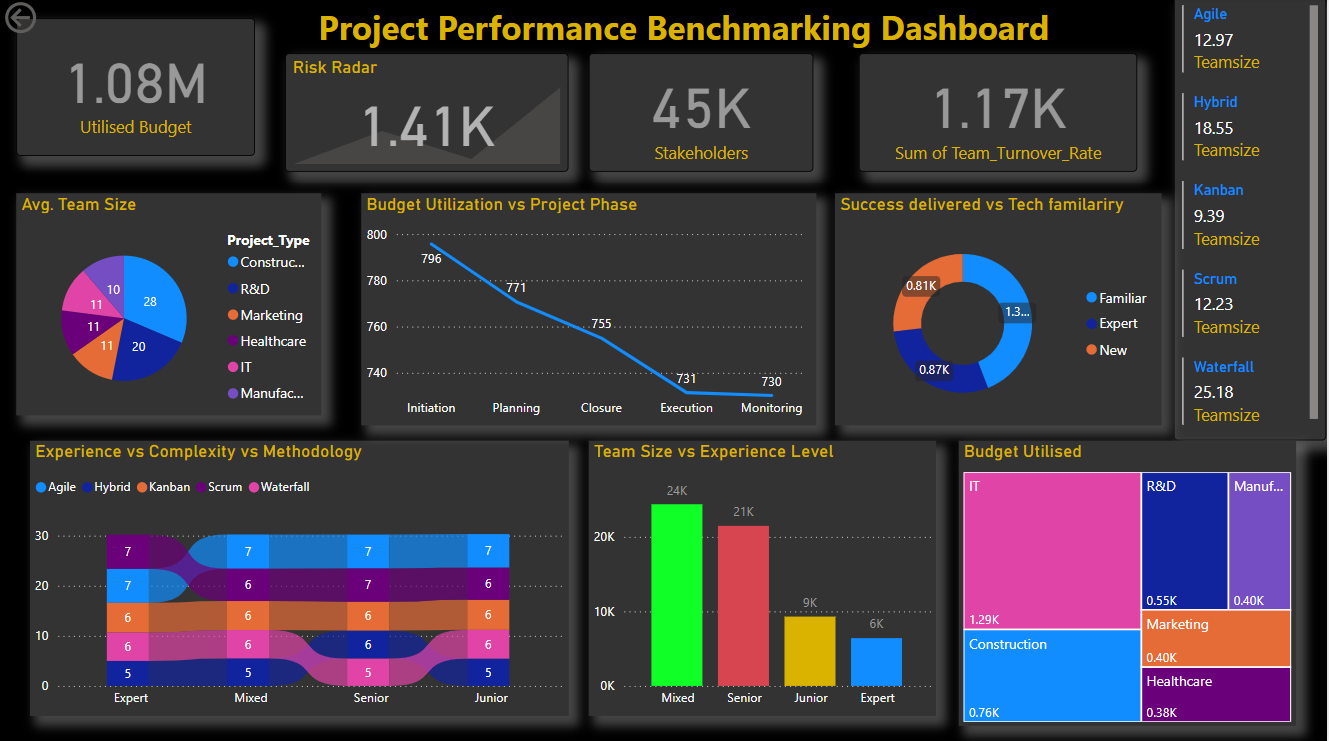

This screenshot's page, from the dashboard's own definition file:
{"tool":"powerbi","page":{"name":"Project Performance Benchmarking","canvas":[1280,720],"ordinal":2},"visuals":[{"type":"shape","box":[289.5,0,740.8,95.3],"z":0},{"type":"card","fields":{"Values":["Avg(project_risk_raw_dataset.xyz)"]},"box":[15.7,20.5,230.4,132.7],"z":1000},{"type":"multiRowCard","fields":{"Values":["project_risk_raw_dataset.Methodology_Used","Avg(project_risk_raw_dataset.Team_Size)"]},"box":[1132.8,0,147.2,428.3],"z":2000},{"type":"pieChart","title":"Avg. Team Size","fields":{"Y":["Avg(project_risk_raw_dataset.Team_Size)"],"Category":["project_risk_raw_dataset.Project_Type"]},"box":[15.7,189.4,294.4,214.7],"z":3000},{"type":"ribbonChart","title":"Experience vs Complexity vs Methodology","fields":{"Category":["project_risk_raw_dataset.Team_Experience_Level"],"Series":["project_risk_raw_dataset.Methodology_Used"],"Y":["Avg(project_risk_raw_dataset.Complexity_Score)"]},"box":[29,428.3,520,265.4],"z":4000},{"type":"lineChart","title":"Budget Utilization vs Project Phase","fields":{"Category":["project_risk_raw_dataset.Project_Phase"],"Y":["Sum(project_risk_raw_dataset.Budget_Utilization_Rate)"]},"box":[348.7,189.4,439.1,224.4],"z":5000},{"type":"actionButton","box":[0,0,100.1,39.8],"z":6000},{"type":"donutChart","title":"Success delivered vs Tech familariry","fields":{"Category":["project_risk_raw_dataset.Technology_Familiarity"],"Y":["Sum(project_risk_raw_dataset.Previous_Delivery_Success_Rate)"]},"box":[805.9,189.4,314.9,224.4],"z":7000},{"type":"kpi","title":"Risk Radar","fields":{"TrendLine":["project_risk_raw_dataset.Risk_Level"],"Indicator":["Sum(project_risk_raw_dataset.Seasonal_Risk_Factor)"]},"box":[275.1,54.3,273.9,114.6],"z":8000},{"type":"clusteredColumnChart","title":"Team Size vs Experience Level","fields":{"Y":["Sum(project_risk_raw_dataset.Team_Size)"],"Category":["project_risk_raw_dataset.Team_Experience_Level"]},"box":[568.2,428.3,335.4,265.4],"z":9000},{"type":"card","fields":{"Values":["Sum(project_risk_raw_dataset.Stakeholder_Count)"]},"box":[568.2,54.3,217.2,114.6],"z":10000},{"type":"treemap","title":"Budget Utilised","fields":{"Group":["project_risk_raw_dataset.Project_Type"],"Values":["Sum(project_risk_raw_dataset.Budget_Utilization_Rate)"]},"box":[925.3,428.3,325.7,275.1],"z":11000},{"type":"card","fields":{"Values":["Sum(project_risk_raw_dataset.Team_Turnover_Rate)"]},"box":[828.8,54.3,269,114.6],"z":12000}]}

Visuals, with their boxes in screenshot pixels (x1, y1, x2, y2), scaled from the page's 1280x720 canvas onto the 1329x741 screenshot:
shape: bbox=[301, 0, 1070, 98]
card - Avg(project_risk_raw_dataset.xyz): bbox=[16, 21, 256, 158]
multiRowCard - project_risk_raw_dataset.Methodology_Used x Avg(project_risk_raw_dataset.Team_Size): bbox=[1176, 0, 1328, 441]
"Avg. Team Size" pieChart: bbox=[16, 195, 322, 416]
"Experience vs Complexity vs Methodology" ribbonChart: bbox=[30, 441, 570, 714]
"Budget Utilization vs Project Phase" lineChart: bbox=[362, 195, 818, 426]
actionButton: bbox=[0, 0, 104, 41]
"Success delivered vs Tech familariry" donutChart: bbox=[837, 195, 1164, 426]
"Risk Radar" kpi: bbox=[286, 56, 570, 174]
"Team Size vs Experience Level" clusteredColumnChart: bbox=[590, 441, 938, 714]
card - Sum(project_risk_raw_dataset.Stakeholder_Count): bbox=[590, 56, 815, 174]
"Budget Utilised" treemap: bbox=[961, 441, 1299, 724]
card - Sum(project_risk_raw_dataset.Team_Turnover_Rate): bbox=[861, 56, 1140, 174]
